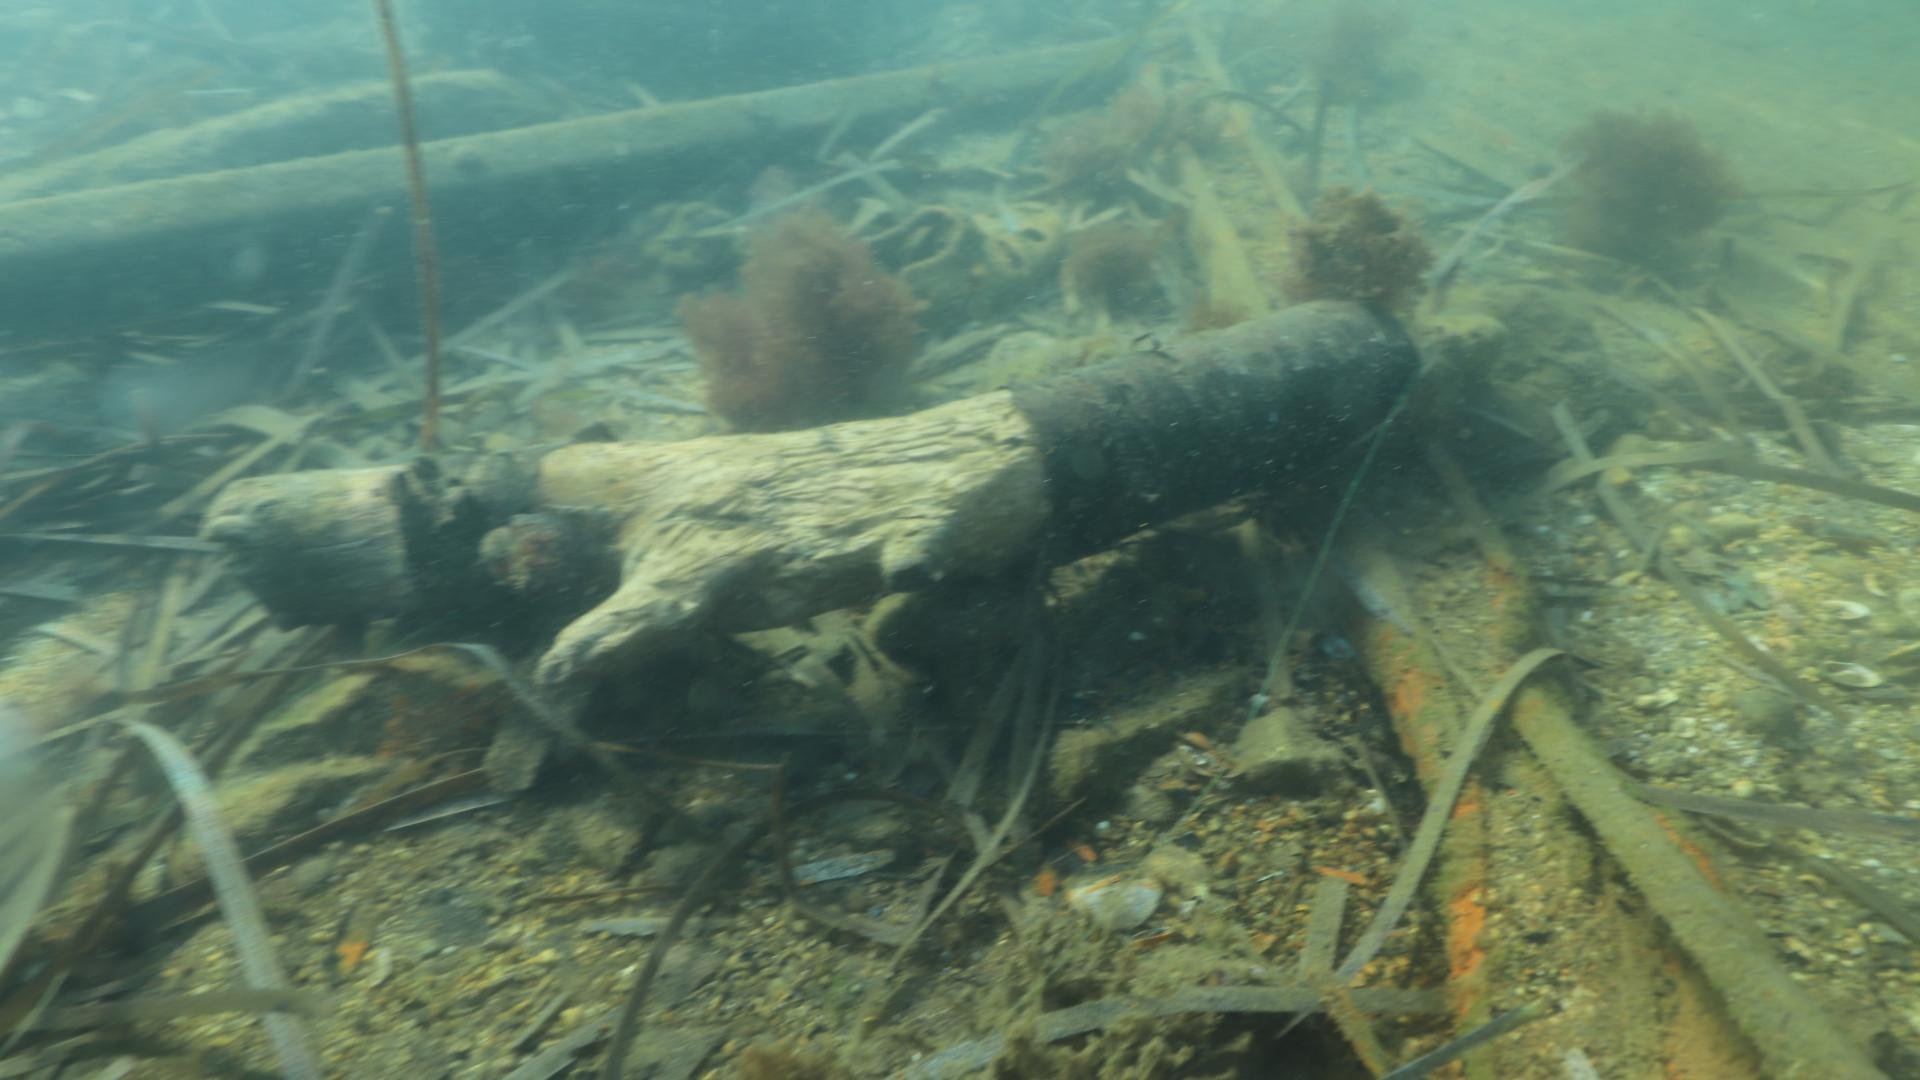wood: (190, 276, 1418, 727)
